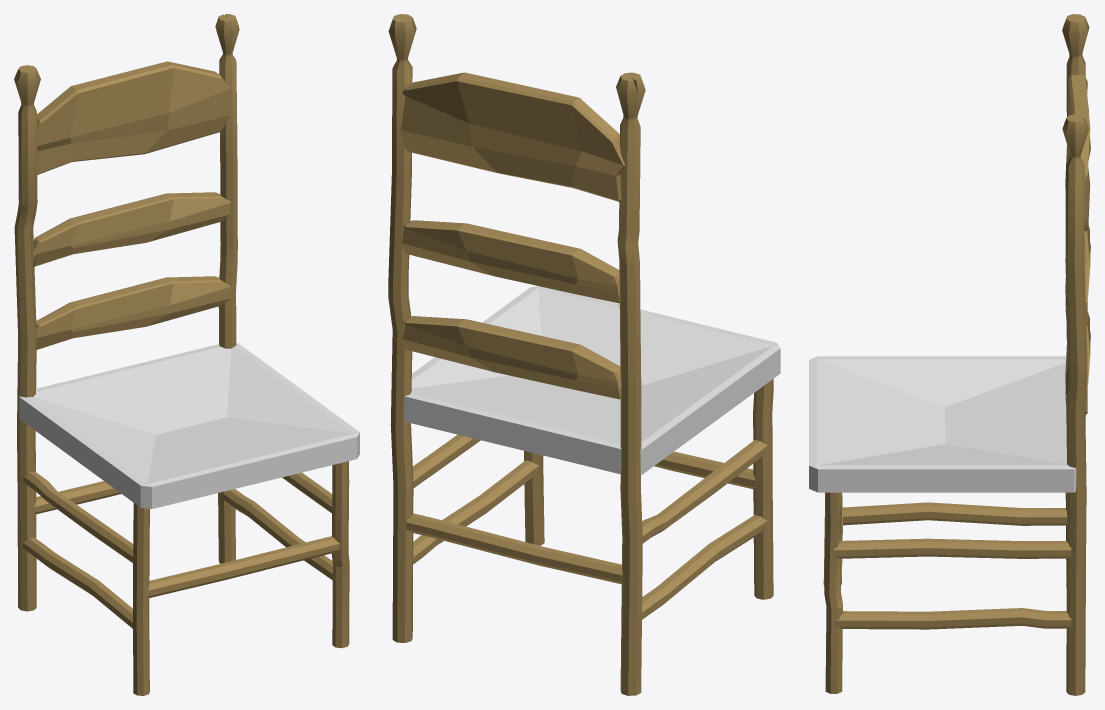
The model's file is Stoel.fbx.
3 renders of one model, left to right at view 1: azimuth 30°, elevation 25°; view 2: azimuth 150°, elevation 25°; view 3: azimuth 270°, elevation 25°, orthographic. The views are drawn at different scales.
Parts seen in each view (by area): view 1: Frame, Zitting; view 2: Frame, Zitting; view 3: Zitting, Frame.
Boxes of the visible parts, bbox=[...] form: Frame: bbox=[14, 14, 349, 695]; Zitting: bbox=[19, 343, 359, 508]; Frame: bbox=[388, 14, 773, 695]; Zitting: bbox=[404, 286, 780, 474]; Zitting: bbox=[809, 356, 1076, 492]; Frame: bbox=[823, 14, 1090, 695].
Size of the model in its own units: 93.92 by 220 by 97.85.
